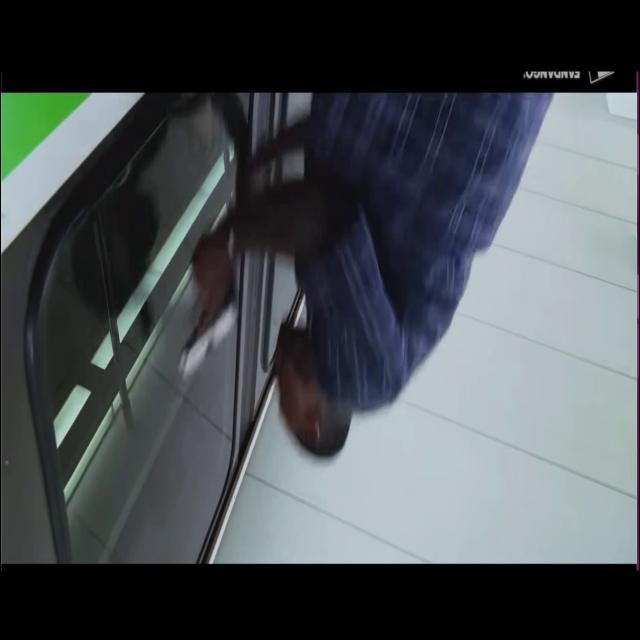weapons: (175, 212, 242, 384)
